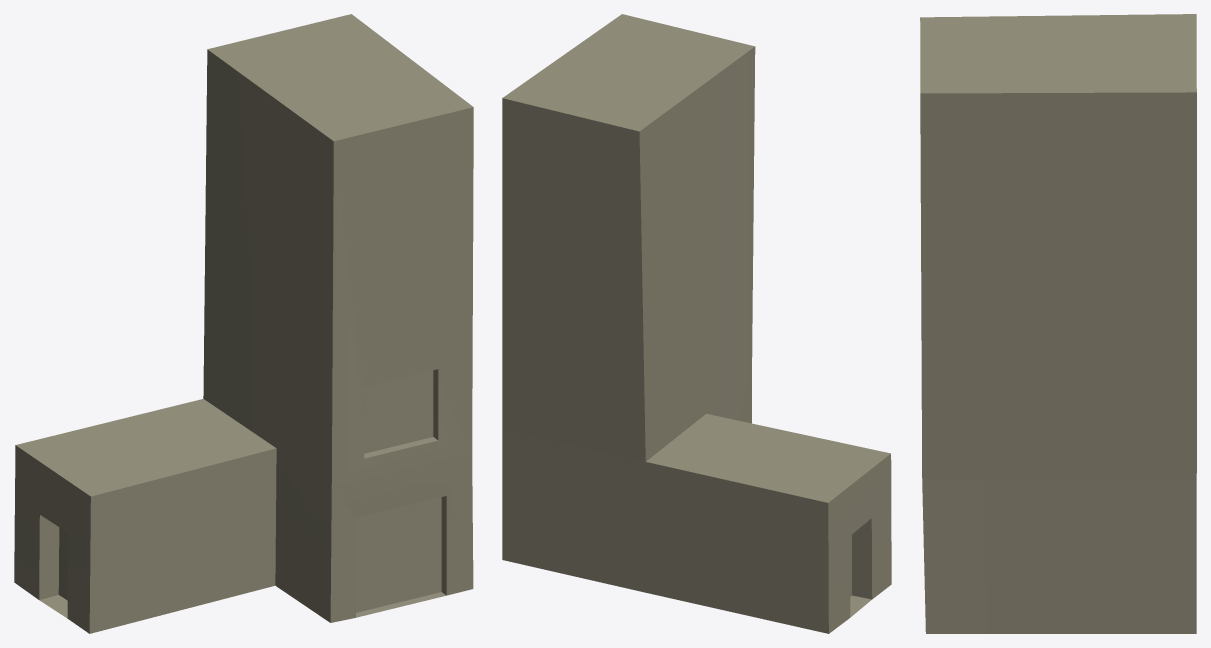
File: Tower.fbx
3 views of the same model, side by side, from view 1: azimuth 30°, elevation 25°; view 2: azimuth 150°, elevation 25°; view 3: azimuth 270°, elevation 25° (orthographic). The views are drawn at different scales.
Visible parts, largest first — view 1: pasted__pasted__pasted__pasted__pCube11; view 2: pasted__pasted__pasted__pasted__pCube11; view 3: pasted__pasted__pasted__pasted__pCube11.
Part boxes in pixels (<box>): pasted__pasted__pasted__pasted__pCube11: <box>14,14,473,633</box>; pasted__pasted__pasted__pasted__pCube11: <box>502,14,891,633</box>; pasted__pasted__pasted__pasted__pCube11: <box>920,14,1196,633</box>.
Size of the model in its own units: 169 by 231 by 107.
